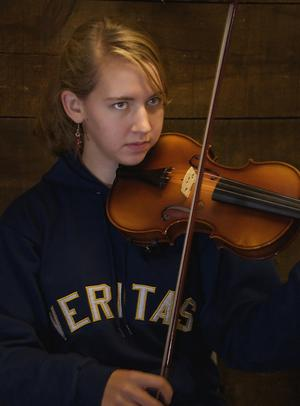person: (1, 15, 300, 406)
